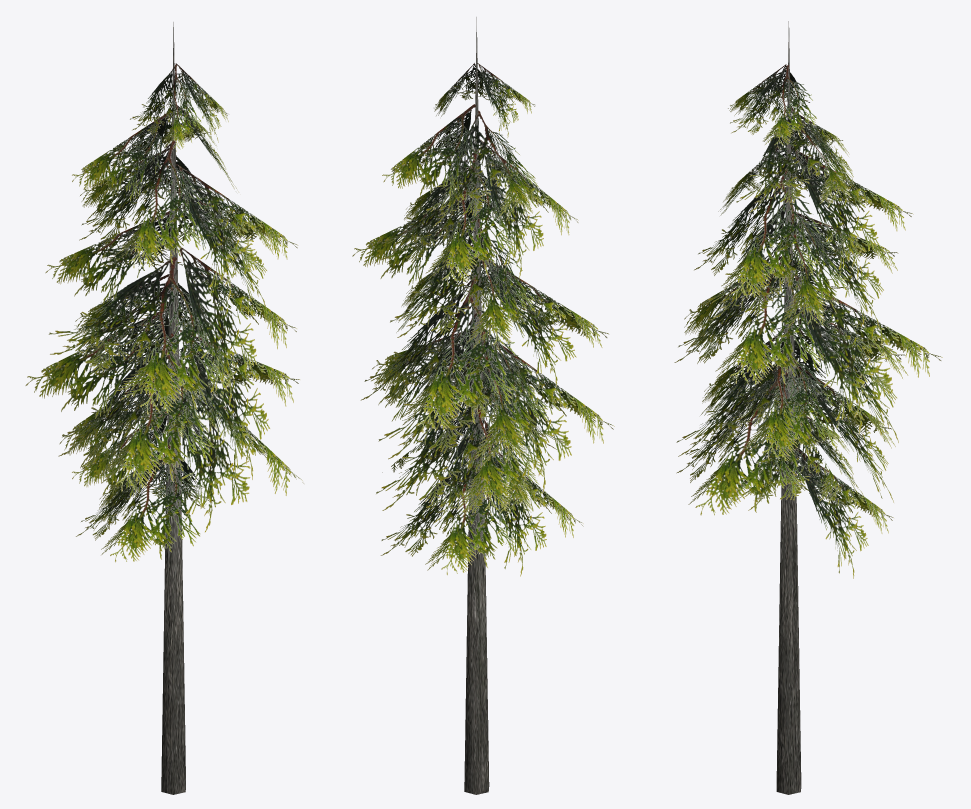
The model's file is Tree-A-02.fbx.
The picture shows the model from 3 angles, left to right: view 1: azimuth 30°, elevation 25°; view 2: azimuth 150°, elevation 25°; view 3: azimuth 270°, elevation 25°; orthographic projection.
Visible parts, largest first — view 1: Tree-01; view 2: Tree-01; view 3: Tree-01.
Boxes of the visible parts, x1=… form: Tree-01: x1=25, y1=22, x2=303, y2=794; Tree-01: x1=352, y1=17, x2=614, y2=794; Tree-01: x1=674, y1=21, x2=942, y2=794.
Bounding box in the file's own units: 468 × 1496 × 527.
